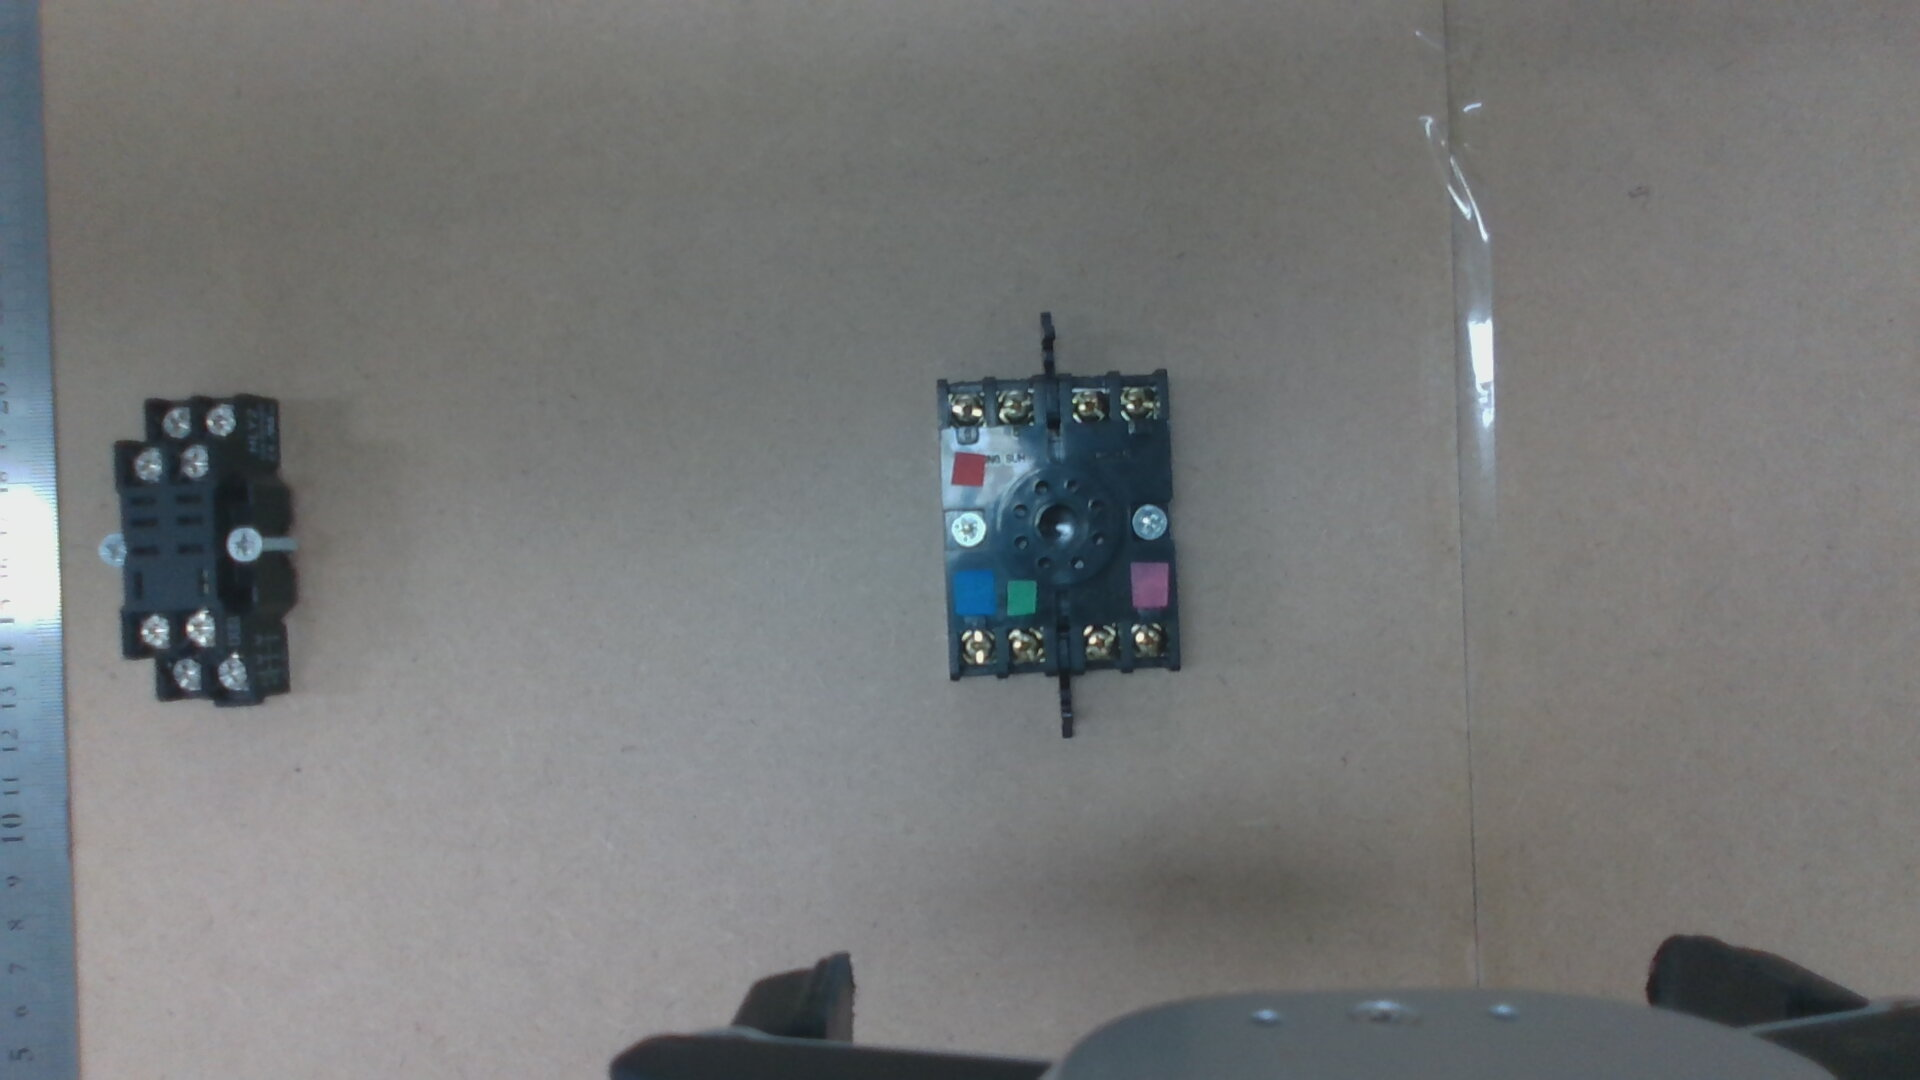timer 2: (1131, 626, 1163, 654)
timer 6: (949, 393, 984, 423)
timer 7: (959, 632, 993, 663)
timer 8: (1009, 632, 1040, 661)
